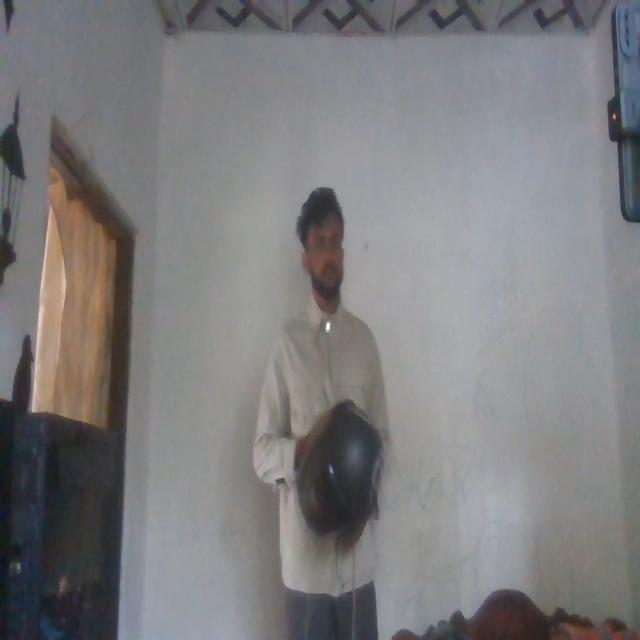Jacket_Wearer: (254, 294, 386, 580)
Person: (249, 178, 395, 640)
